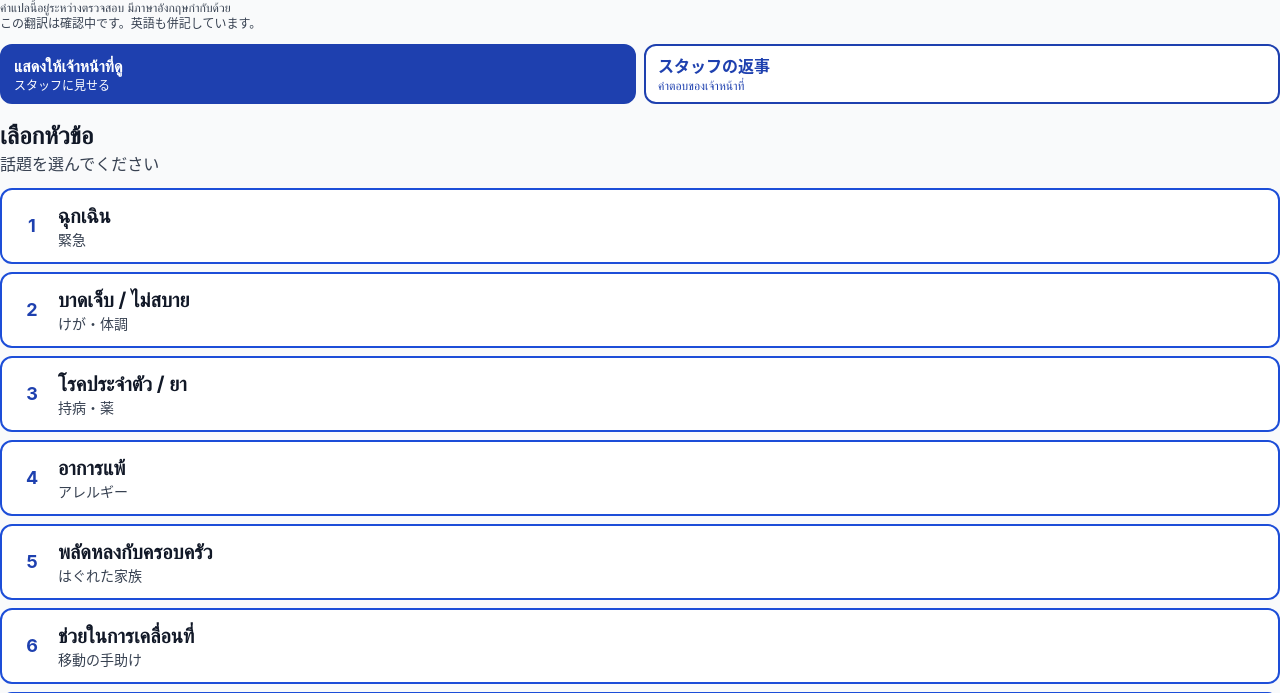
Test: ConversationCards: 読み上げ › 読み上げが失敗したら（network 等）注記に切り替える
This screenshot has width=1280, height=693.
What coordinates should you click on to do the following:
click the button "2 บาดเจ็บ / ไม่สบาย けが・体調"
I would click on:
 (124, 300)
Its box is [0,272,1279,348].
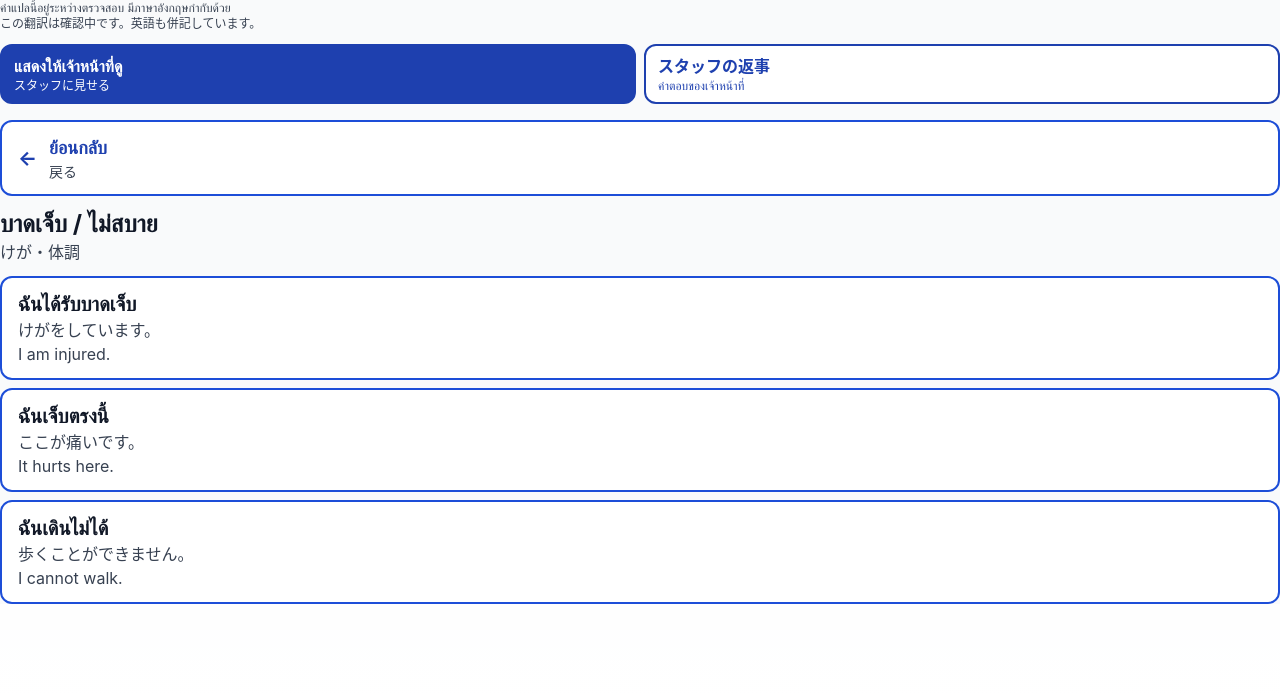
What coordinates should you click on to do the following:
click the button "ฉันได้รับบาดเจ็บ けがをしています。 I am injured."
I would click on:
 (77, 304)
Its box is [0,276,1279,380].
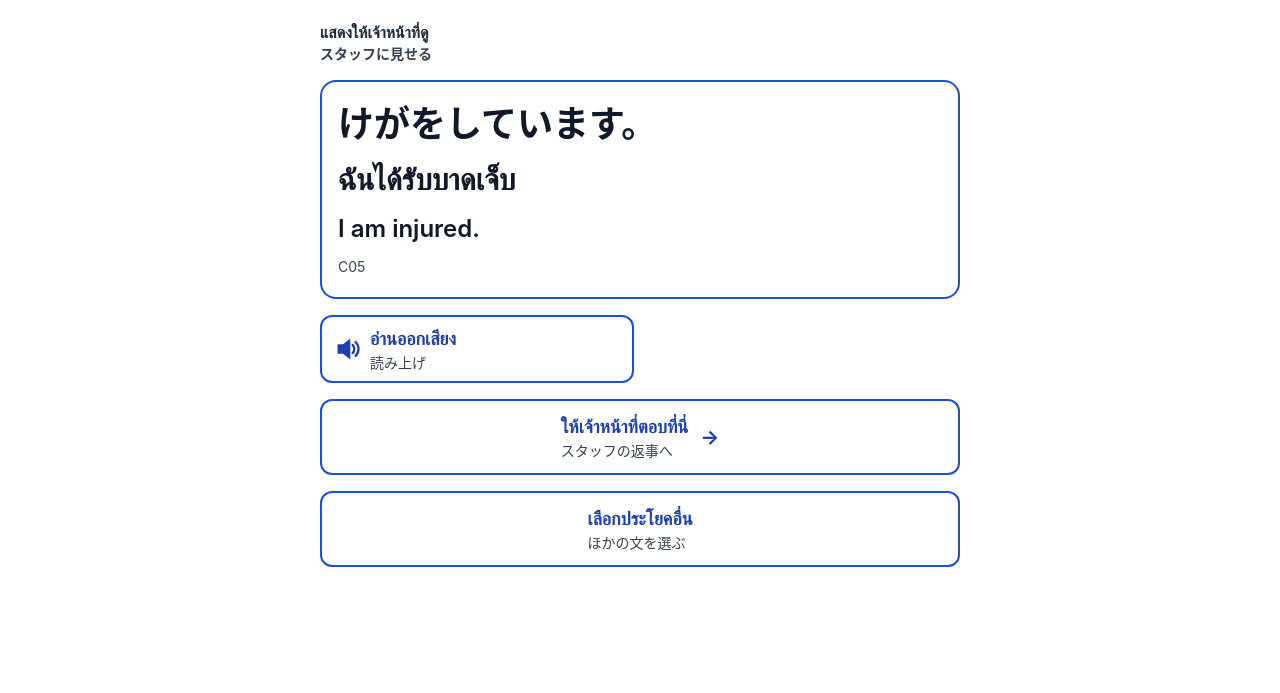
What coordinates should you click on to do the following:
click the button with test id "conv-speak"
I would click on:
 (413, 339)
Its box is [320,315,634,383].
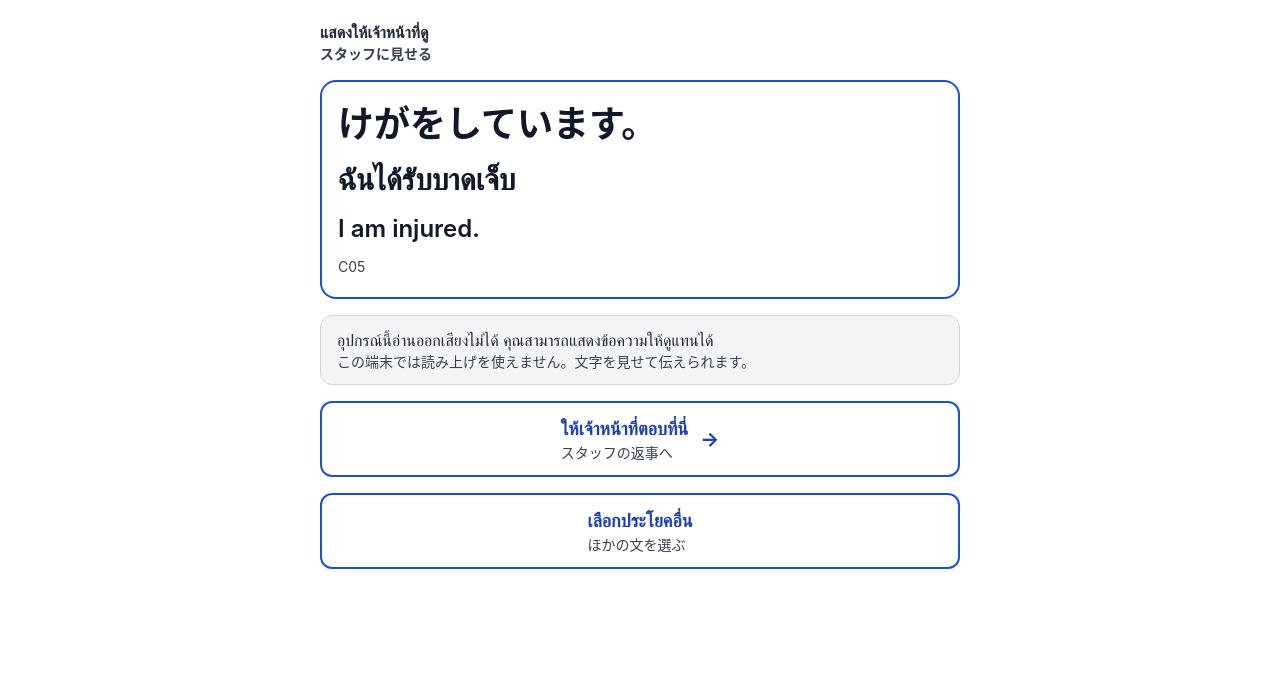
Expected: the button with test id "conv-speak" is gone
Expected: the element with test id "conv-no-voice" is shown, [320,315,960,385]
